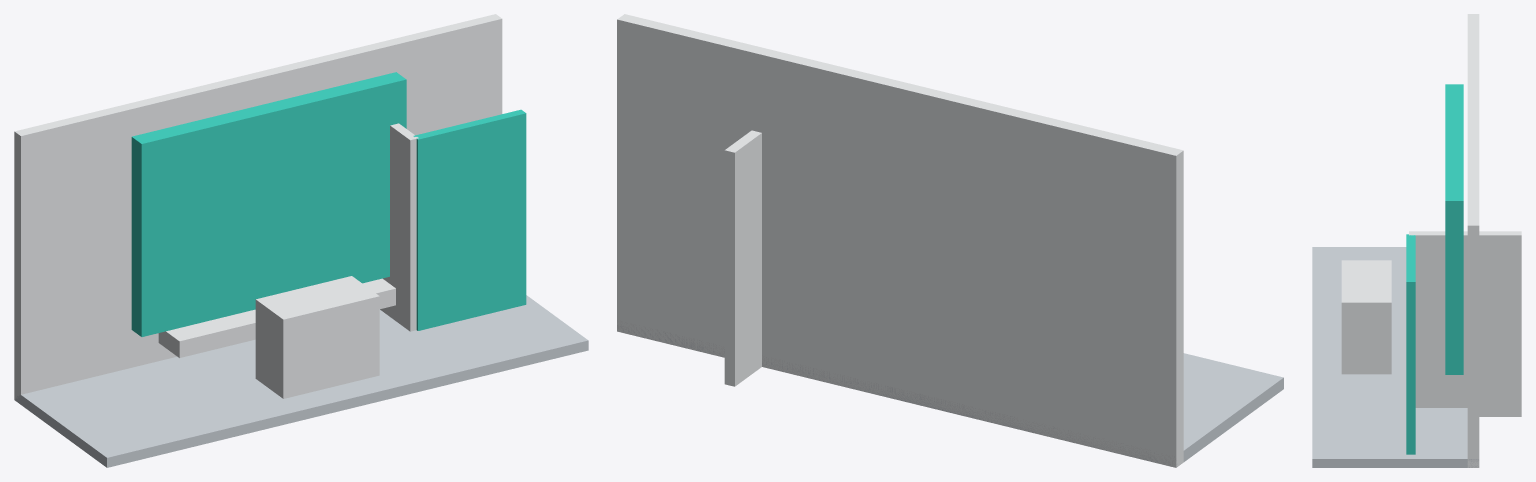
3 renders of one model, left to right at view 1: azimuth 30°, elevation 25°; view 2: azimuth 150°, elevation 25°; view 3: azimuth 270°, elevation 25°, orthographic. The views are drawn at different scales.
Visible parts, largest first — view 1: Exhibition Booth Concept; view 2: Exhibition Booth Concept; view 3: Exhibition Booth Concept.
Part boxes in pixels (left/top/right/bottom): Exhibition Booth Concept: left=14, top=14, right=588, bottom=467; Exhibition Booth Concept: left=617, top=14, right=1283, bottom=467; Exhibition Booth Concept: left=1312, top=14, right=1521, bottom=467.
Bounding box in the file's own units: 6 × 3.2 × 2.5.
